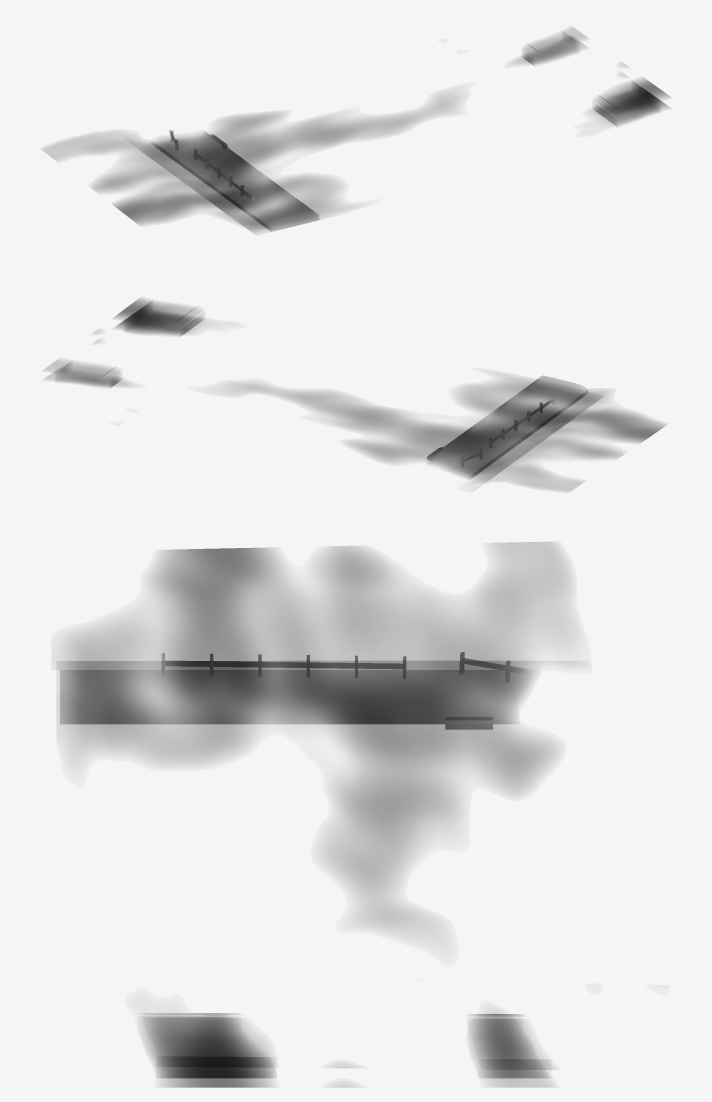
Rendered from shadow_text_decal.glb.
3 renders of one model, top to bottom at view 1: azimuth 30°, elevation 25°; view 2: azimuth 150°, elevation 25°; view 3: azimuth 270°, elevation 25°, orthographic. The views are drawn at different scales.
Visible parts, largest first — view 1: gltf joined final pls.002; view 2: gltf joined final pls.002; view 3: gltf joined final pls.002.
Part boxes in pixels (box(x1,y1,x2,y2)): gltf joined final pls.002: box(42, 28, 669, 233); gltf joined final pls.002: box(44, 298, 665, 491); gltf joined final pls.002: box(56, 542, 568, 1087).
Bounding box in the file's own units: 19.94 × 0.6864 × 10.32.
1 material, 1 textured.
